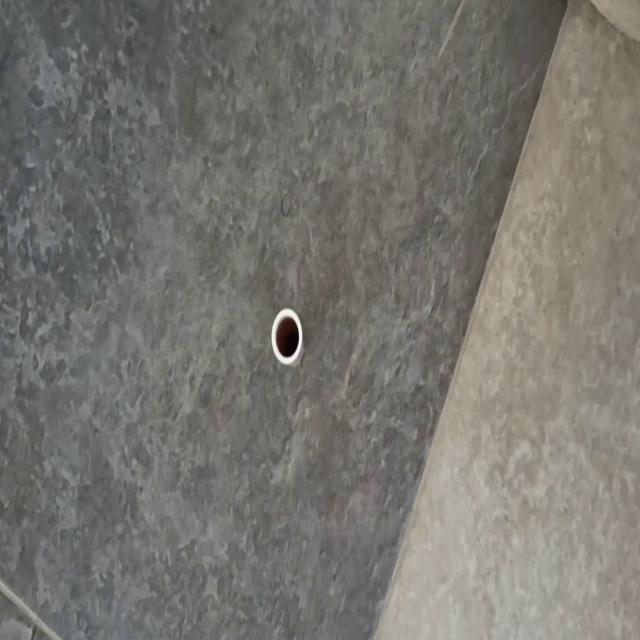Cube: (270, 306, 304, 366)
